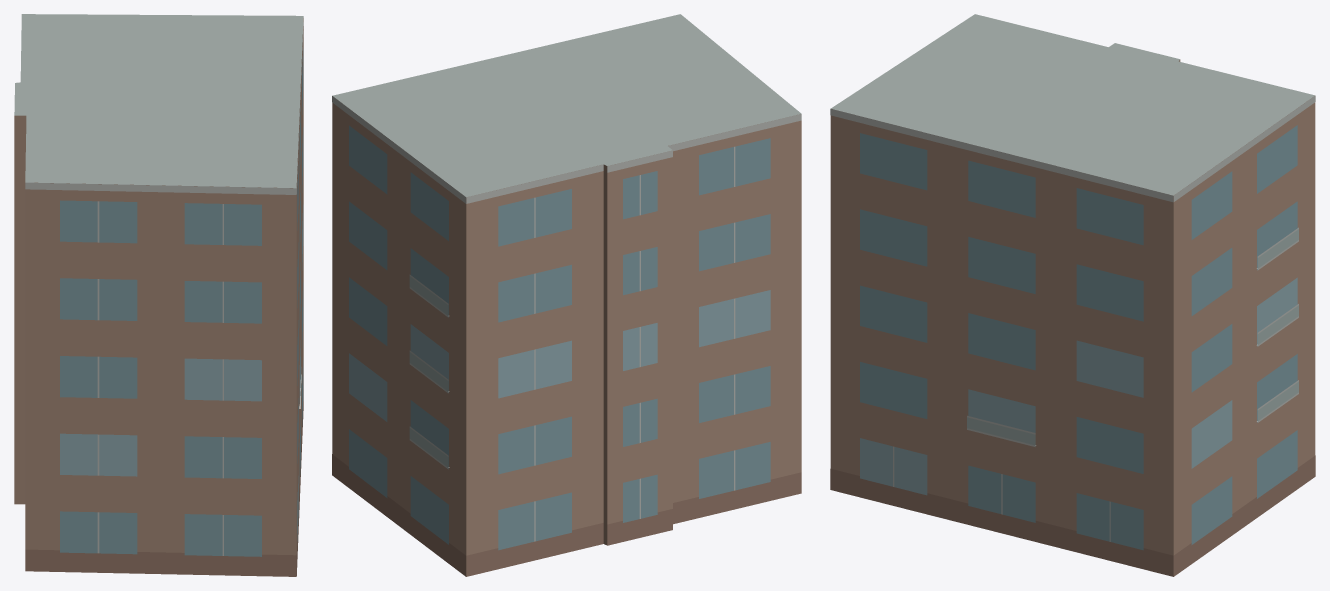
File: survey-upis-32691439.glb
3 renders of one model, left to right at view 1: azimuth 30°, elevation 25°; view 2: azimuth 150°, elevation 25°; view 3: azimuth 270°, elevation 25°, orthographic. The views are drawn at different scales.
Visible parts, largest first — view 1: survey-upis-32691439.tmp; view 2: survey-upis-32691439.tmp; view 3: survey-upis-32691439.tmp.
Boxes of the visible parts, x1,y1,x2,y2 form: survey-upis-32691439.tmp: [14, 14, 303, 576]; survey-upis-32691439.tmp: [332, 14, 801, 576]; survey-upis-32691439.tmp: [830, 14, 1315, 576].
Size of the model in its own units: 14.13 by 13.82 by 15.94.
